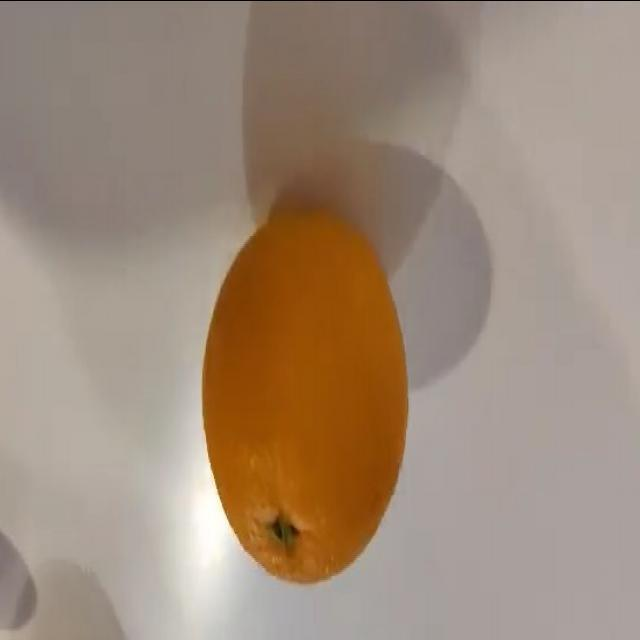Orange: (200, 198, 409, 584)
